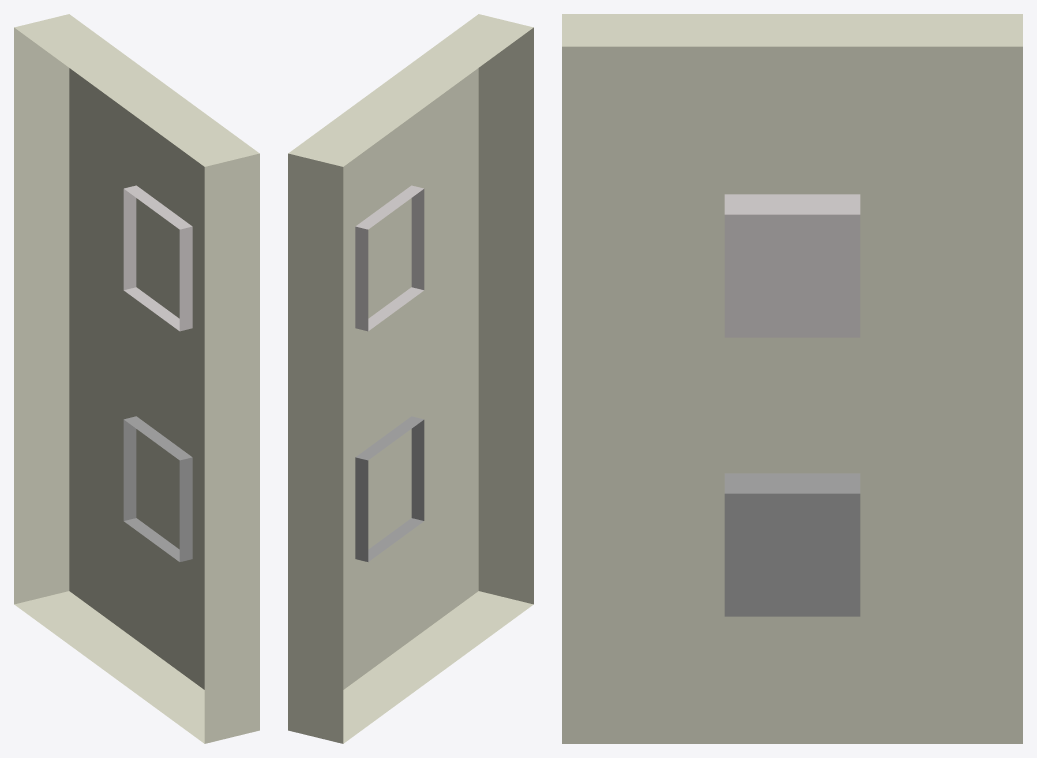
File: SM_HOTEL_Elevator_call_updown.fbx
3 views of the same model, side by side, from view 1: azimuth 30°, elevation 25°; view 2: azimuth 150°, elevation 25°; view 3: azimuth 270°, elevation 25° (orthographic). The views are drawn at different scales.
Visible parts, largest first — view 1: SM_HOTEL_Elevator_call_updown; view 2: SM_HOTEL_Elevator_call_updown; view 3: SM_HOTEL_Elevator_call_updown.
Boxes of the visible parts, x1,y1,x2,y2 form: SM_HOTEL_Elevator_call_updown: [14, 14, 259, 743]; SM_HOTEL_Elevator_call_updown: [288, 14, 533, 743]; SM_HOTEL_Elevator_call_updown: [562, 14, 1022, 743].
Size of the model in its own units: 16.32 by 100 by 59.87.
